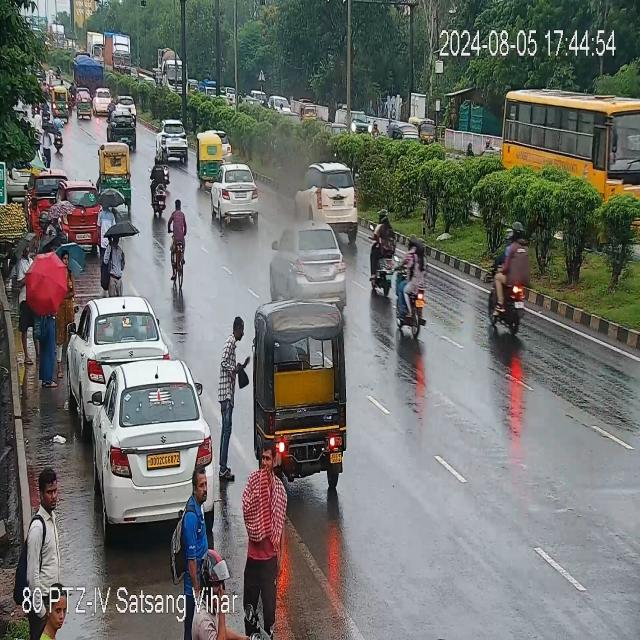2-wheelers: (396, 234, 431, 345), (493, 229, 531, 327), (166, 202, 190, 298), (372, 213, 397, 297), (146, 154, 168, 217)
auto: (250, 296, 348, 487), (196, 133, 234, 184), (99, 141, 132, 189), (384, 113, 420, 151), (413, 116, 444, 152)
bus: (502, 90, 639, 203), (71, 56, 105, 93)
car: (82, 353, 215, 529), (66, 295, 172, 428), (269, 225, 347, 306), (299, 162, 358, 238), (48, 186, 104, 250), (208, 163, 260, 227), (106, 106, 138, 146), (6, 166, 34, 201), (160, 119, 187, 140), (76, 94, 94, 120)
pedestrian: (240, 447, 292, 640), (17, 466, 69, 639), (170, 474, 226, 632), (214, 323, 248, 478), (24, 252, 60, 395), (102, 237, 128, 296)
